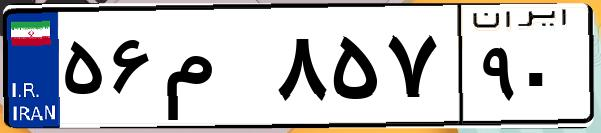0: (525, 38, 570, 115)
5: (330, 28, 385, 110), (57, 26, 110, 100)
6: (110, 28, 158, 98)
7: (385, 28, 445, 110)
8: (270, 28, 330, 110)
9: (475, 38, 525, 113)
م: (158, 20, 270, 120)
